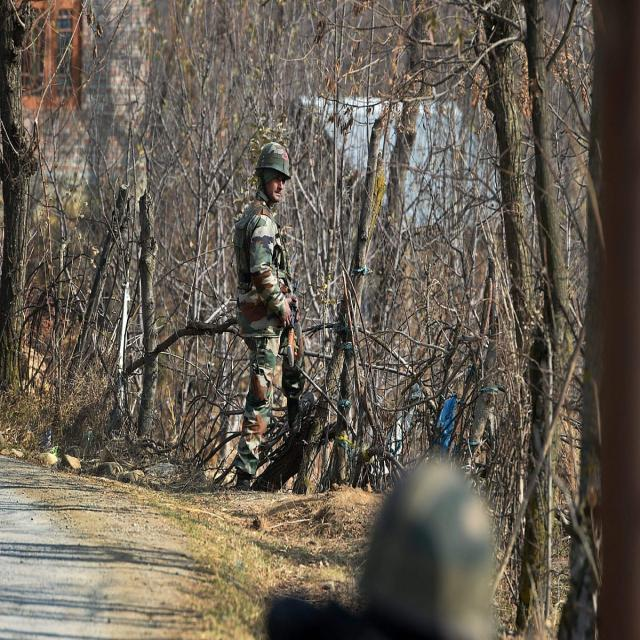Forest: (0, 0, 640, 640)
Militant: (213, 114, 347, 516)
